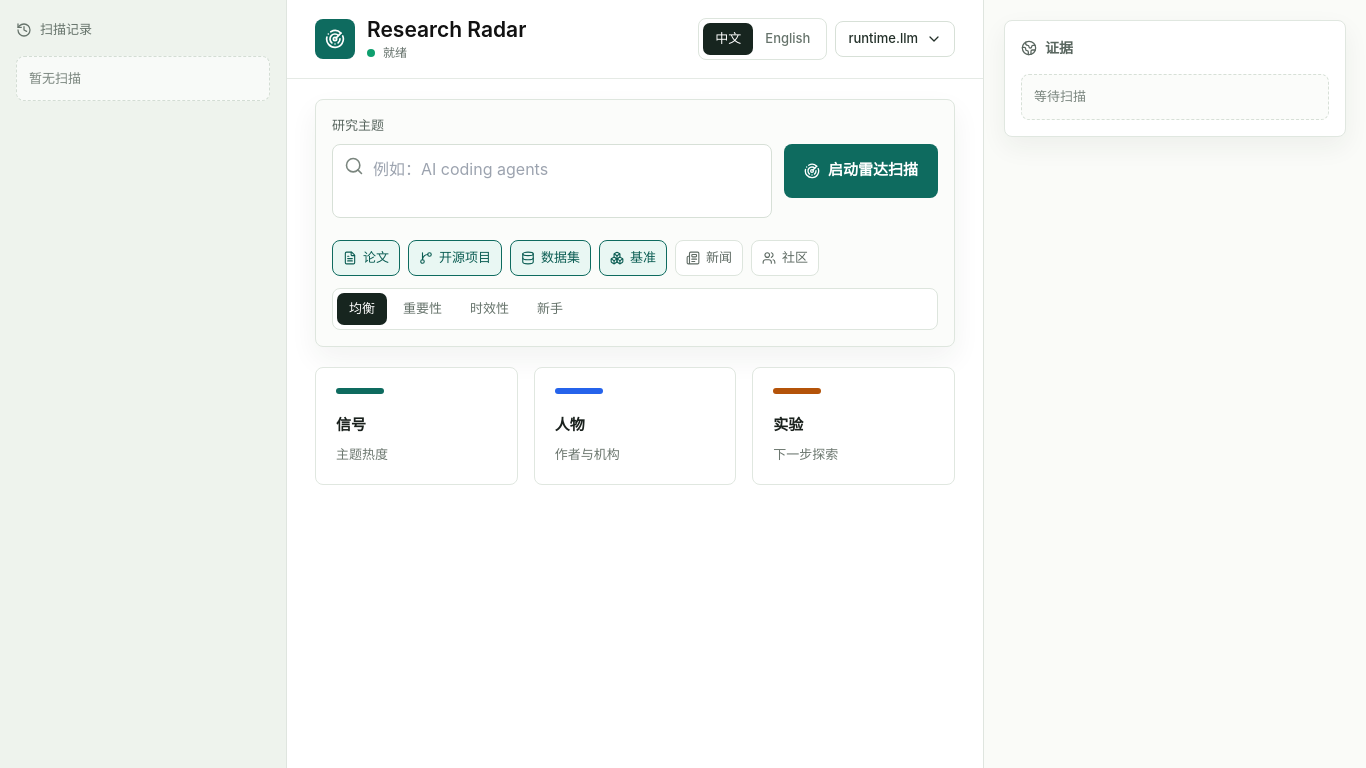
Test case: Research Radar POC page › submits a topic and renders structured research output with evidence
The width and height of the screenshot is (1366, 768).
In the text box labelled "研究主题": (552, 180) [332,144,772,218], type "AI coding agents"
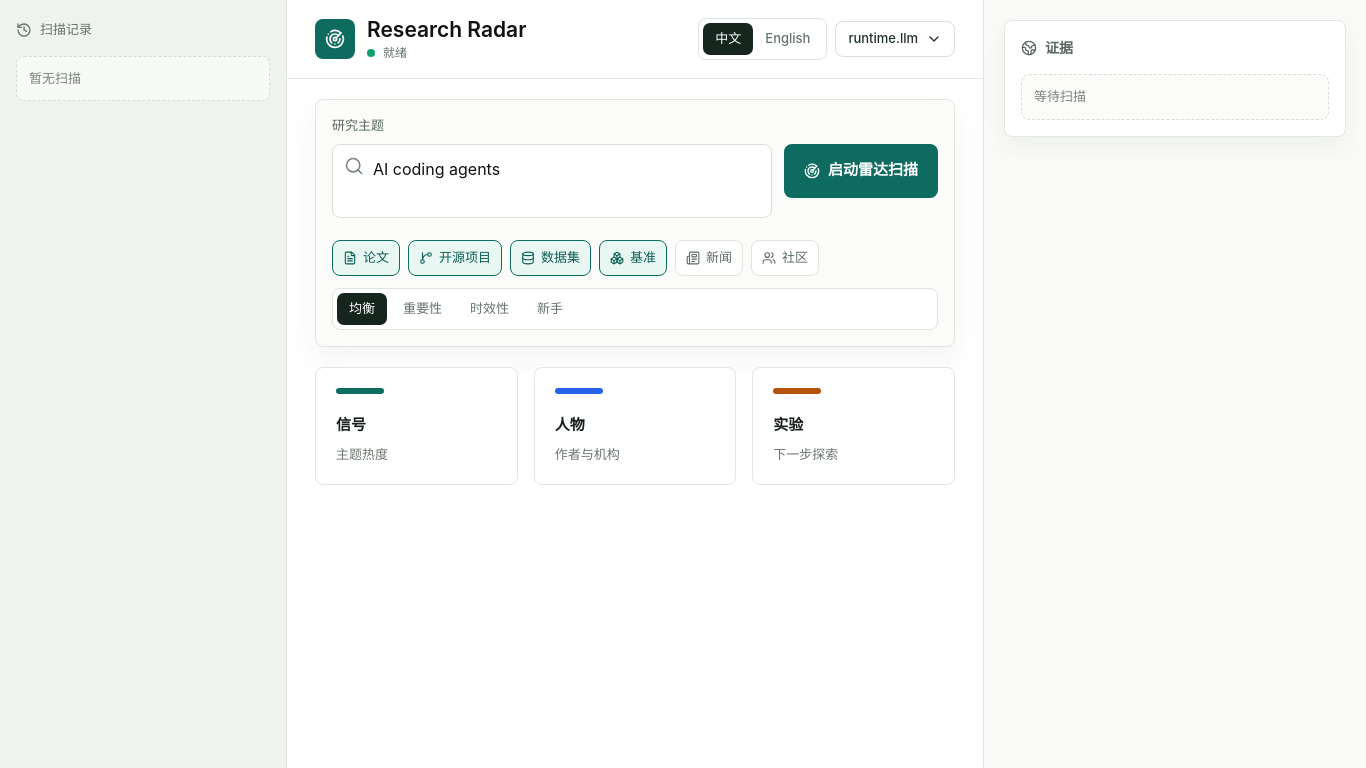
Click the button "启动雷达扫描": click(861, 170) [784,144,938,198]
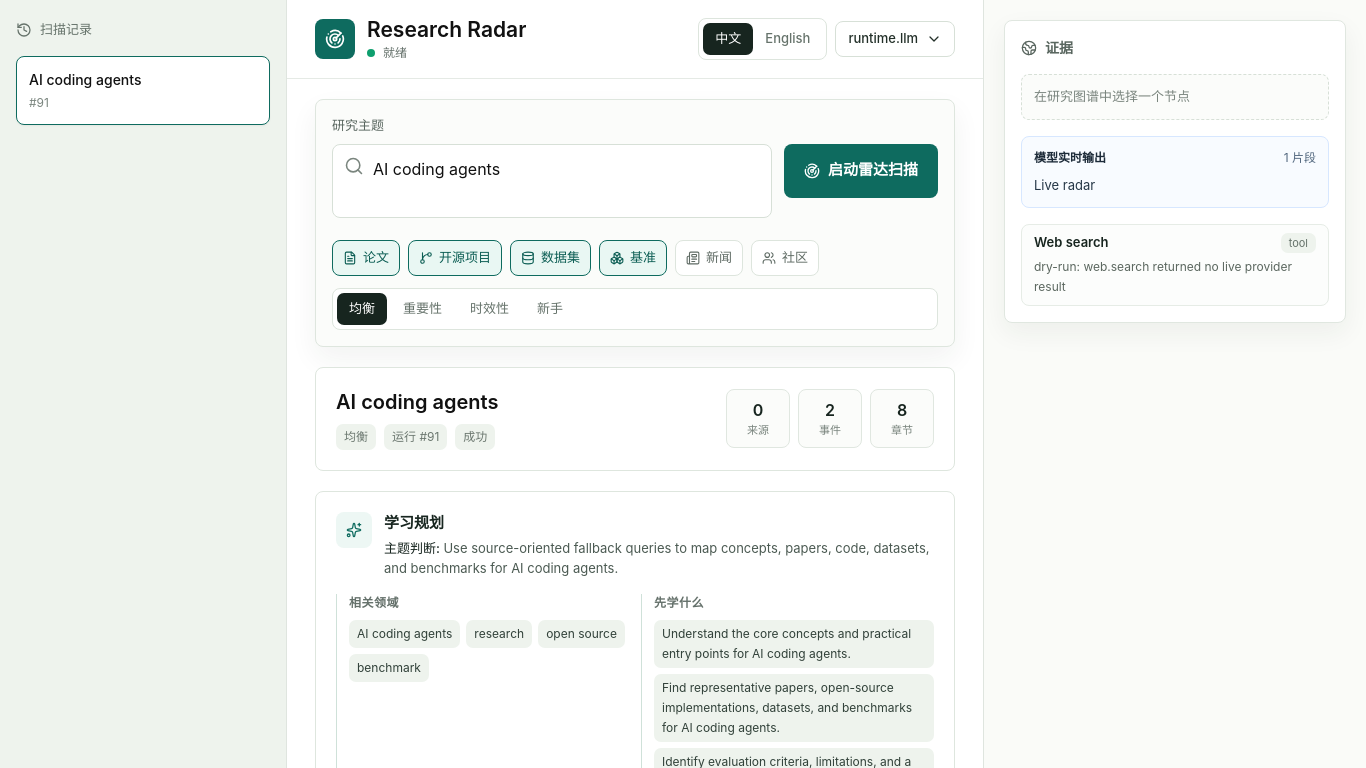
Check: the text "运行 #91" is shown, box [384,424,447,450]
Check: the text "Live radar" is shown, box [1034,176,1095,192]
Check: the text "dry-run: web.search returned no live provider result" is shown, box [1034,257,1316,297]
